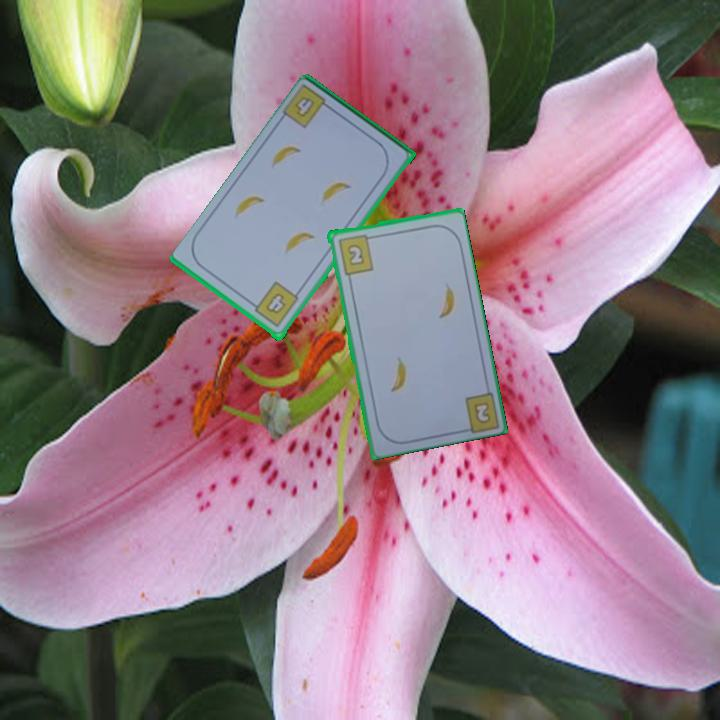2b: (334, 230, 376, 277), (472, 401, 491, 424)
4b: (247, 278, 302, 331), (280, 82, 336, 132)
